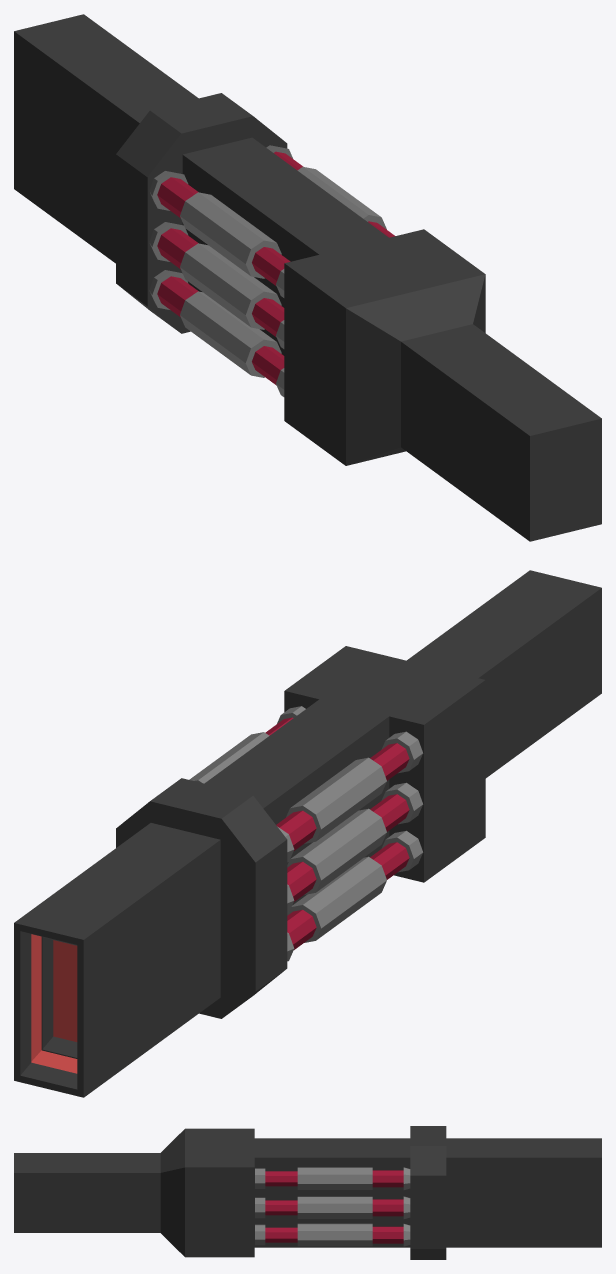
The model's file is cyber_shotgun.glb.
3 views of the same model, one above another, from view 1: azimuth 30°, elevation 25°; view 2: azimuth 150°, elevation 25°; view 3: azimuth 270°, elevation 25° (orthographic). The views are drawn at different scales.
Parts seen in each view (by area): view 1: CyberShotgun; view 2: CyberShotgun; view 3: CyberShotgun.
Part boxes in pixels (box(x1,y1,x2,y2)): CyberShotgun: box(14, 14, 601, 541); CyberShotgun: box(14, 570, 601, 1097); CyberShotgun: box(14, 1126, 601, 1259).
Size of the model in its own units: 0.318 by 0.4282 by 2.
Materials: 1 (1 with a texture image).
